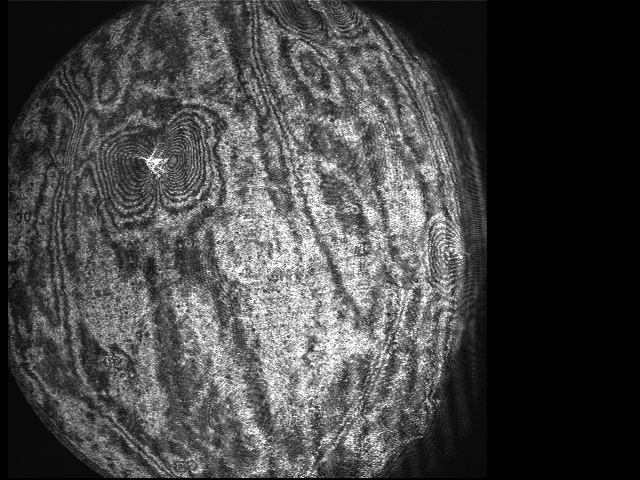plume: (102, 107, 209, 216)
